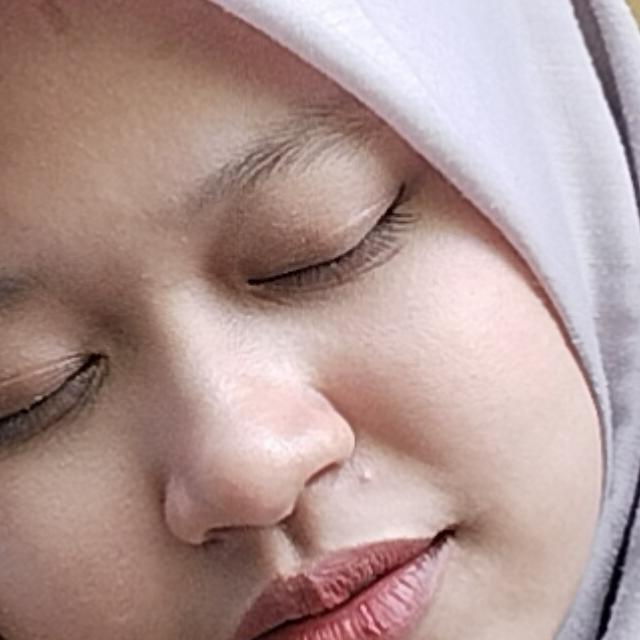tidur: (0, 328, 486, 640)
